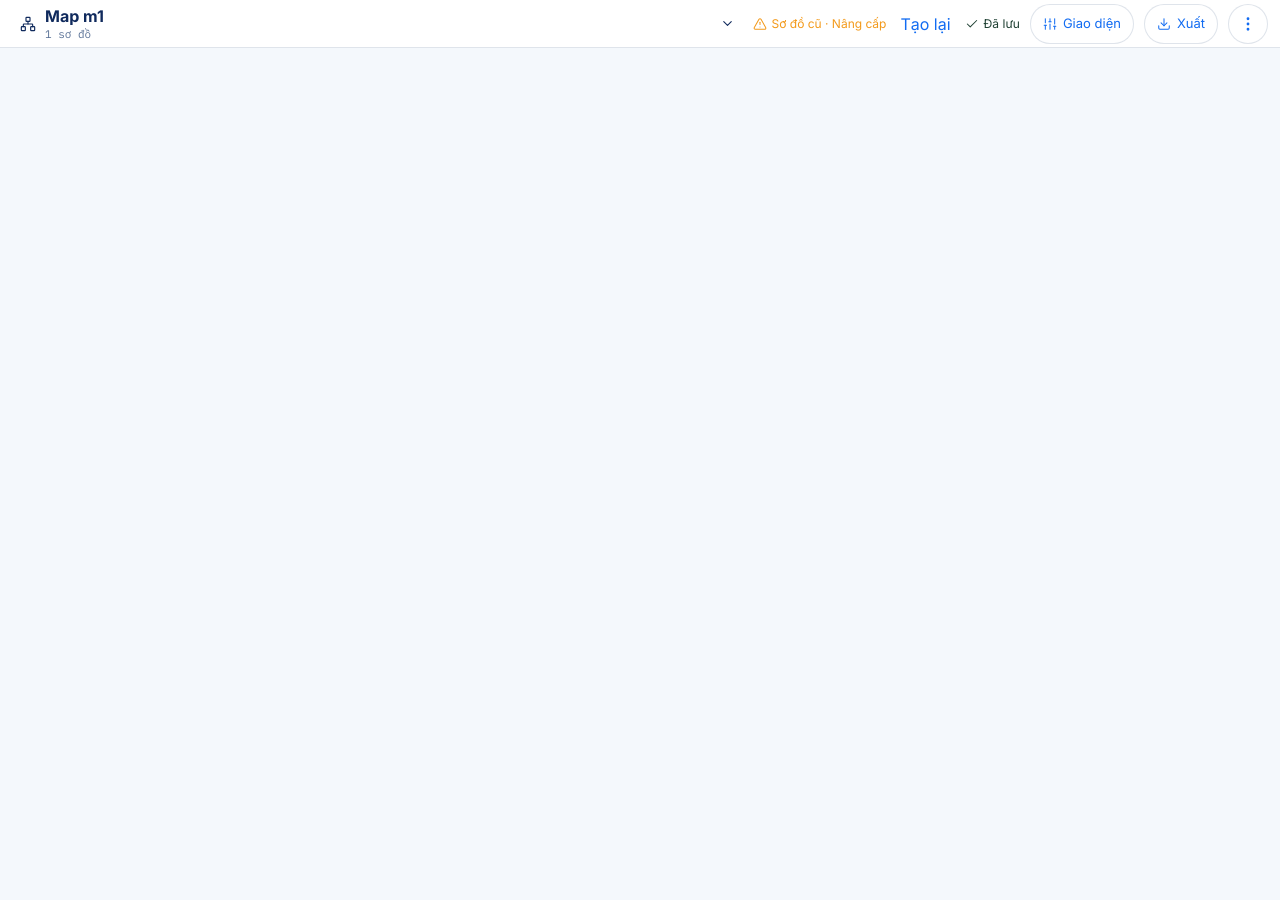
Test case: Export Studio — document formats › PR C1: lists PDF as the only document format — DOCX/XLSX no longer selectable
Click the button with aria-label "Xuất sơ đồ" at (1181, 24), box [1144,4,1218,44]
(page scrolled)
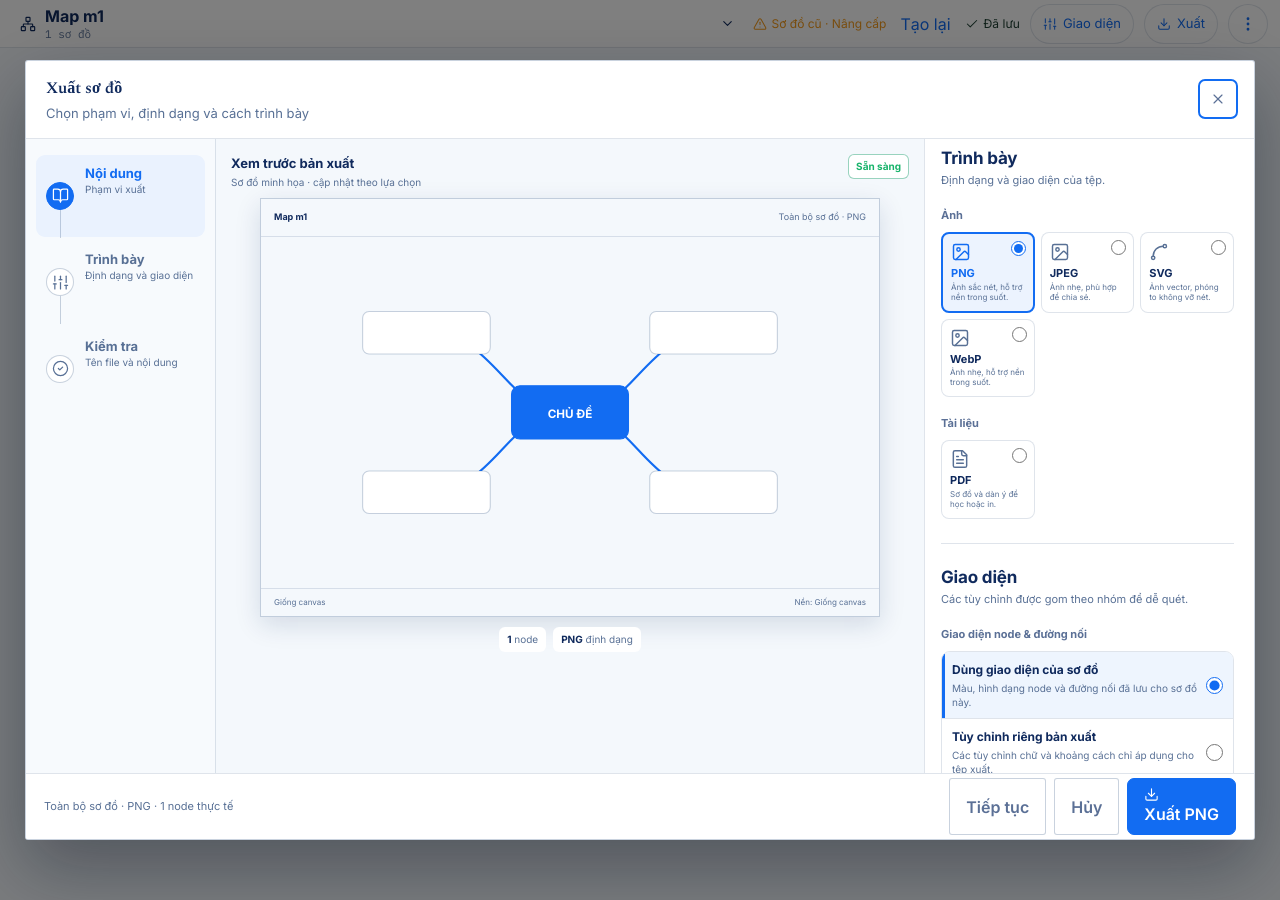
Check: the radio button named "mm-export-format" is enabled, box [1012,448,1027,463]
